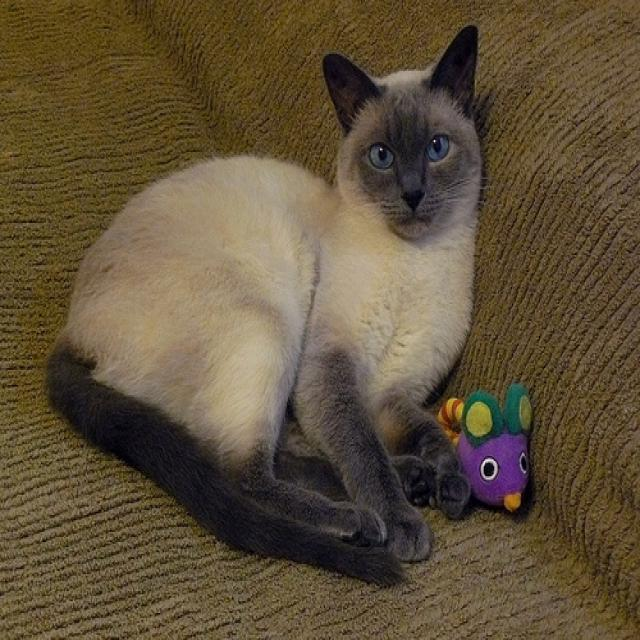Siamese: (315, 17, 494, 241)
